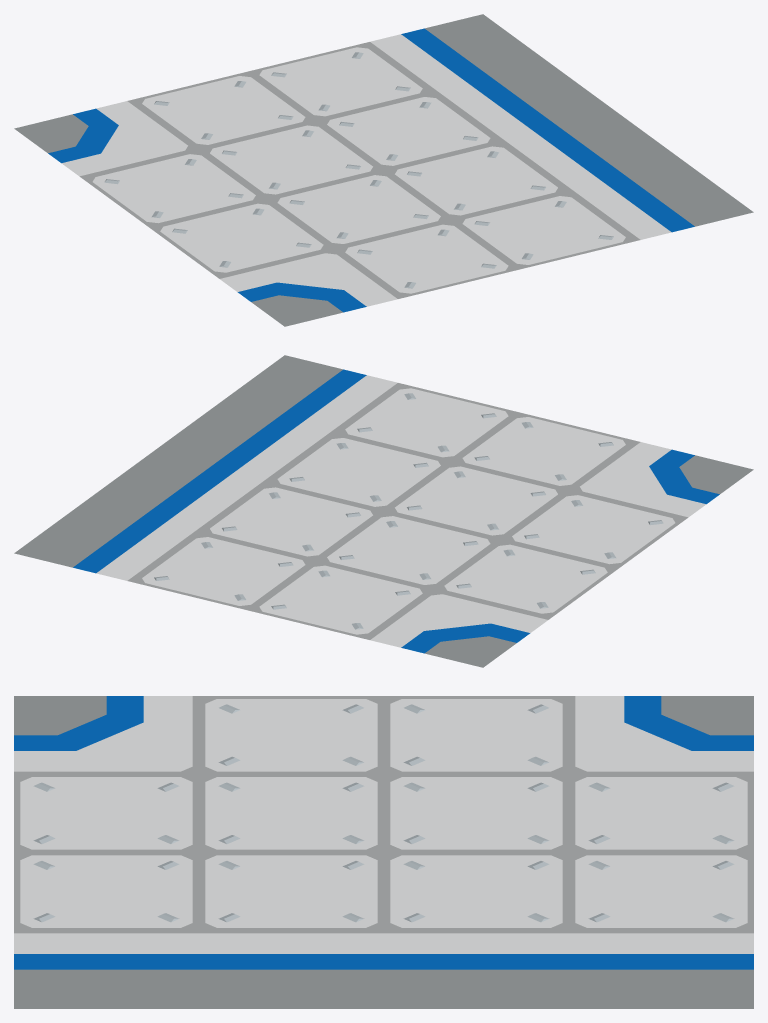
File: Floor_type_A_001.fbx
3 renders of one model, top to bottom at view 1: azimuth 30°, elevation 25°; view 2: azimuth 150°, elevation 25°; view 3: azimuth 270°, elevation 25°, orthographic. The views are drawn at different scales.
Visible parts, largest first — view 1: Floor_type_A_001; view 2: Floor_type_A_001; view 3: Floor_type_A_001.
Boxes of the visible parts, x1=… form: Floor_type_A_001: x1=14, y1=14, x2=753, y2=326; Floor_type_A_001: x1=14, y1=355, x2=753, y2=667; Floor_type_A_001: x1=14, y1=696, x2=753, y2=1008.
Bounding box in the file's own units: 400 × 400 × 0.8.
